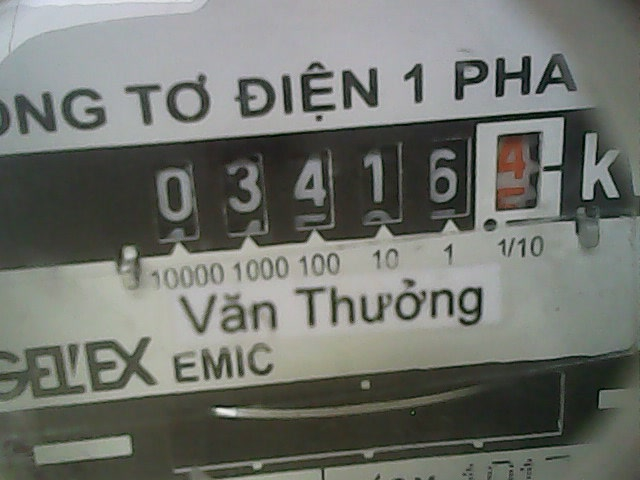phy_plate: (139, 106, 574, 248)
